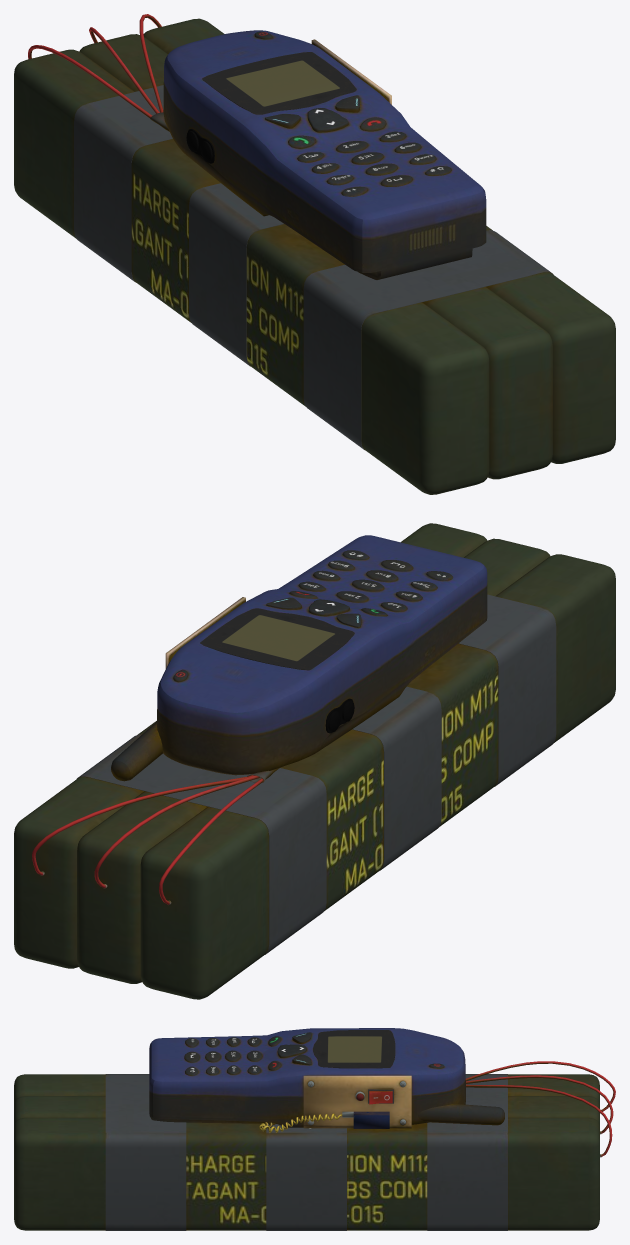
3 renders of one model, top to bottom at view 1: azimuth 30°, elevation 25°; view 2: azimuth 150°, elevation 25°; view 3: azimuth 270°, elevation 25°, orthographic. The views are drawn at different scales.
Parts seen in each view (by area): view 1: C4_Lowpoly (×3), Nokia_Lowpoly, DuctTape_Lowpoly, Screen_Lowpoly, Cables_Lowpoly; view 2: C4_Lowpoly (×3), Nokia_Lowpoly, DuctTape_Lowpoly, Screen_Lowpoly, Cables_Lowpoly; view 3: C4_Lowpoly (×3), DuctTape_Lowpoly, Nokia_Lowpoly, ControlPlate_Lowpoly, Screen_Lowpoly, Cables_Lowpoly, Cable_Lowpoly.
Boxes of the visible parts, box(x1,y1,x2,y2) form: C4_Lowpoly (×3): box(14, 18, 615, 494); Nokia_Lowpoly: box(163, 30, 486, 279); DuctTape_Lowpoly: box(74, 85, 553, 449); Screen_Lowpoly: box(202, 52, 356, 114); Cables_Lowpoly: box(28, 14, 163, 117); C4_Lowpoly (×3): box(14, 523, 615, 999); Nokia_Lowpoly: box(111, 535, 487, 781); DuctTape_Lowpoly: box(77, 594, 556, 954); Screen_Lowpoly: box(200, 608, 354, 670); Cables_Lowpoly: box(32, 775, 263, 904); C4_Lowpoly (×3): box(14, 1074, 599, 1230); DuctTape_Lowpoly: box(105, 1074, 507, 1230); Nokia_Lowpoly: box(149, 1028, 504, 1127); ControlPlate_Lowpoly: box(303, 1075, 411, 1128); Screen_Lowpoly: box(312, 1030, 395, 1068); Cables_Lowpoly: box(465, 1061, 615, 1157); Cable_Lowpoly: box(259, 1113, 342, 1132).
Bounding box in the file's own units: 1.2 × 1.28 × 4.57.
2 materials, 2 textured.
